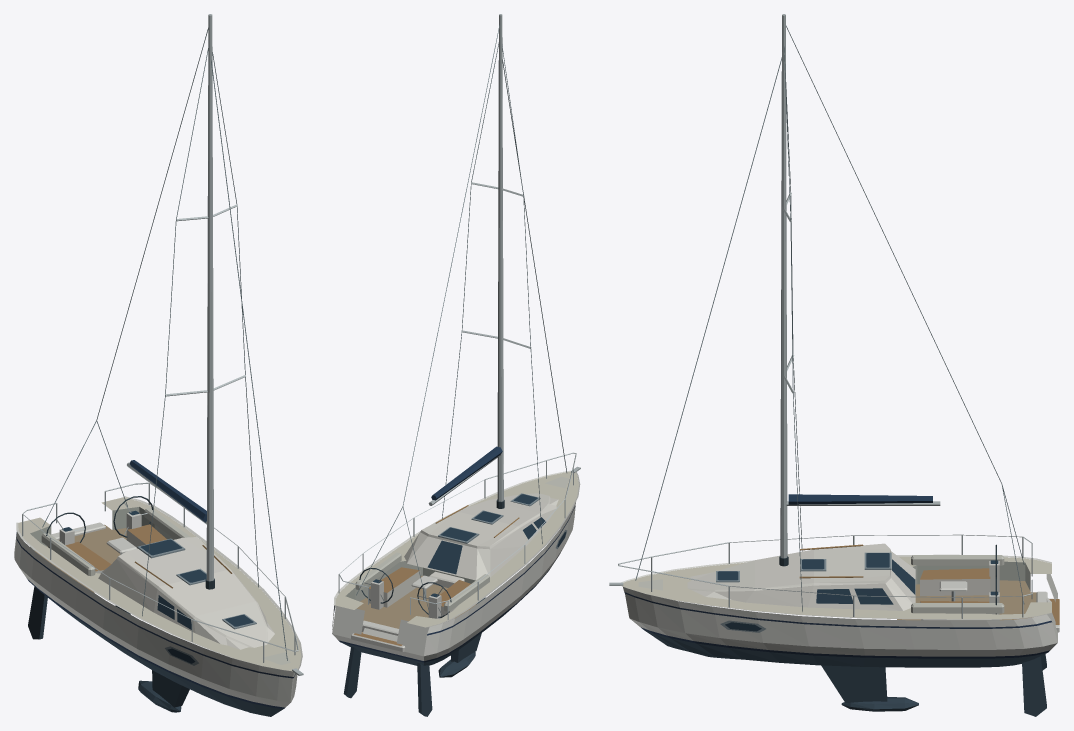
File: kjp_dufour_310_gl_2014_dimfix.glb
3 views of the same model, side by side, from view 1: azimuth 30°, elevation 25°; view 2: azimuth 150°, elevation 25°; view 3: azimuth 270°, elevation 25° (orthographic). The views are drawn at different scales.
Visible parts, largest first — view 1: KJP_Dufour310GL; view 2: KJP_Dufour310GL; view 3: KJP_Dufour310GL.
Boxes of the visible parts, x1,y1,x2,y2 form: KJP_Dufour310GL: [14, 14, 303, 716]; KJP_Dufour310GL: [332, 14, 580, 716]; KJP_Dufour310GL: [609, 14, 1059, 716].
Bounding box in the file's own units: 3.31 × 16.46 × 9.67.
